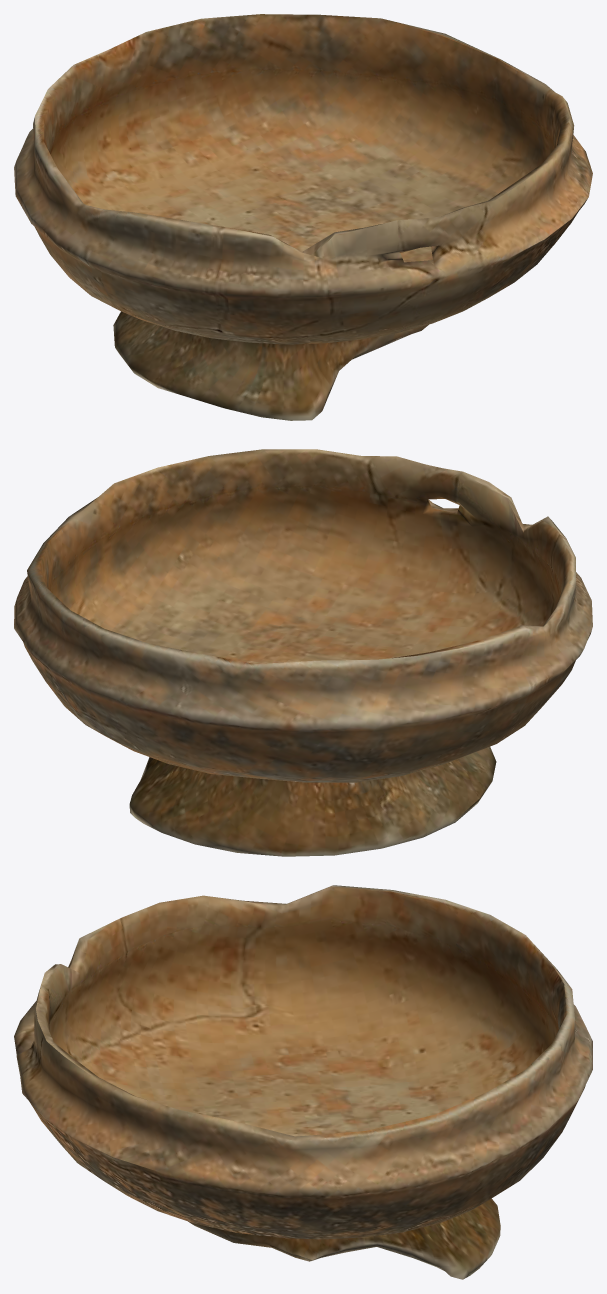
The model's file is antiquity4_44.fbx.
The picture shows the model from 3 angles, top to bottom: view 1: azimuth 30°, elevation 25°; view 2: azimuth 150°, elevation 25°; view 3: azimuth 270°, elevation 25°; orthographic projection. The views are drawn at different scales.
Visible parts, largest first — view 1: default11; view 2: default11; view 3: default11.
Boxes of the visible parts, bbox=[...] form: default11: bbox=[14, 14, 592, 420]; default11: bbox=[14, 449, 592, 856]; default11: bbox=[14, 885, 592, 1279].
Size of the model in its own units: 37.64 by 16.15 by 36.01.
Materials: 1 (1 with a texture image).
